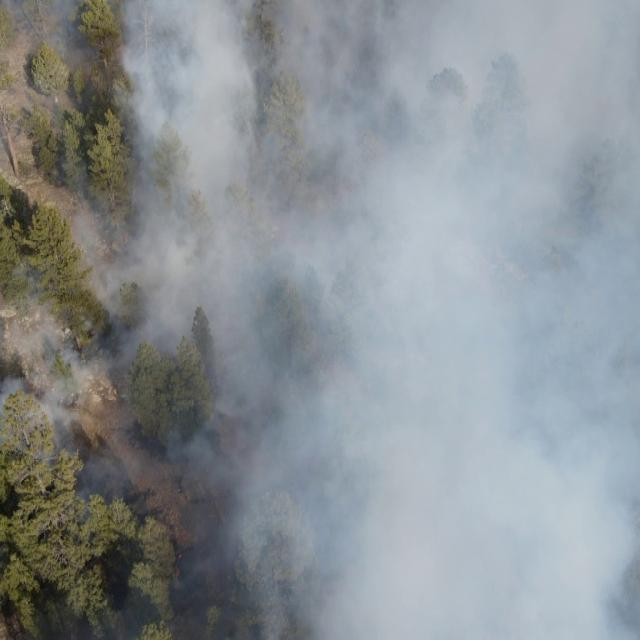fire: (172, 552, 184, 582)
smoke: (0, 0, 640, 472), (44, 472, 640, 640)
